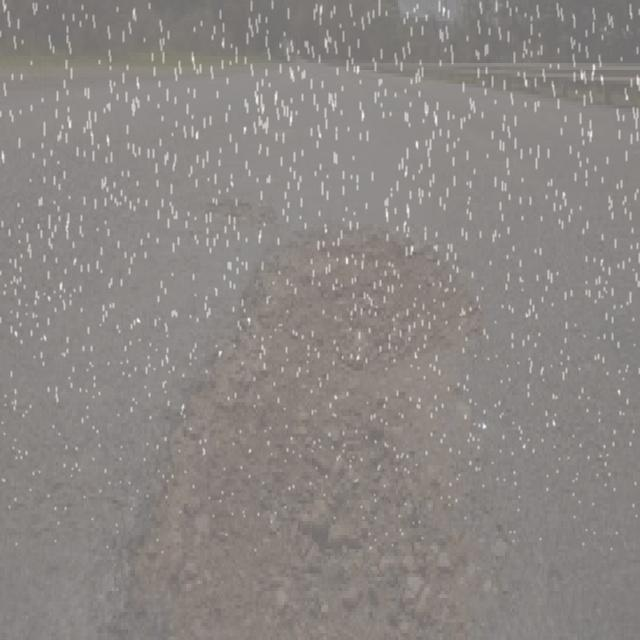Pothole: (100, 217, 524, 640), (193, 187, 280, 234)
